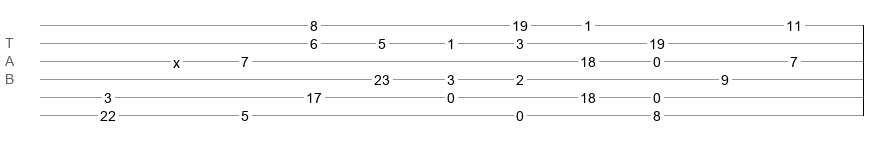0: (447, 90, 455, 100), (516, 108, 524, 118), (653, 54, 661, 64), (653, 90, 661, 100)
1: (447, 36, 455, 46), (584, 18, 592, 28)
11: (786, 18, 802, 28)
17: (306, 90, 322, 100)
18: (580, 90, 596, 100), (580, 54, 596, 64)
19: (512, 18, 528, 28), (649, 36, 665, 46)
2: (516, 72, 524, 82)
22: (100, 108, 116, 118)
23: (374, 72, 390, 82)
3: (104, 90, 112, 100), (447, 72, 455, 82), (516, 36, 524, 46)
5: (241, 108, 249, 118), (378, 36, 386, 46)
6: (310, 36, 318, 46)
7: (241, 54, 249, 64), (790, 54, 798, 64)
8: (310, 18, 318, 28), (653, 108, 661, 118)
9: (721, 72, 729, 82)
x: (173, 55, 180, 63)
